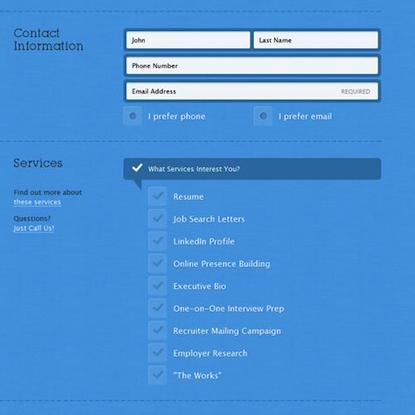checkbox: (147, 274, 171, 297), (147, 208, 171, 230), (146, 297, 168, 319), (147, 340, 168, 363), (147, 231, 169, 252), (147, 252, 168, 274), (148, 187, 172, 205), (148, 319, 167, 341), (148, 362, 167, 384)
checkbox_with_label: (142, 297, 285, 320), (145, 318, 282, 341), (144, 251, 275, 275), (143, 341, 249, 364), (145, 207, 245, 231), (142, 274, 227, 299), (143, 230, 235, 253), (142, 362, 223, 386), (145, 185, 205, 206)
field: (122, 79, 381, 104), (123, 53, 380, 78), (251, 28, 380, 52), (124, 28, 252, 52)
radio: (124, 105, 142, 124), (253, 105, 270, 124)
radio_with_label: (121, 103, 206, 127), (250, 102, 332, 126)
